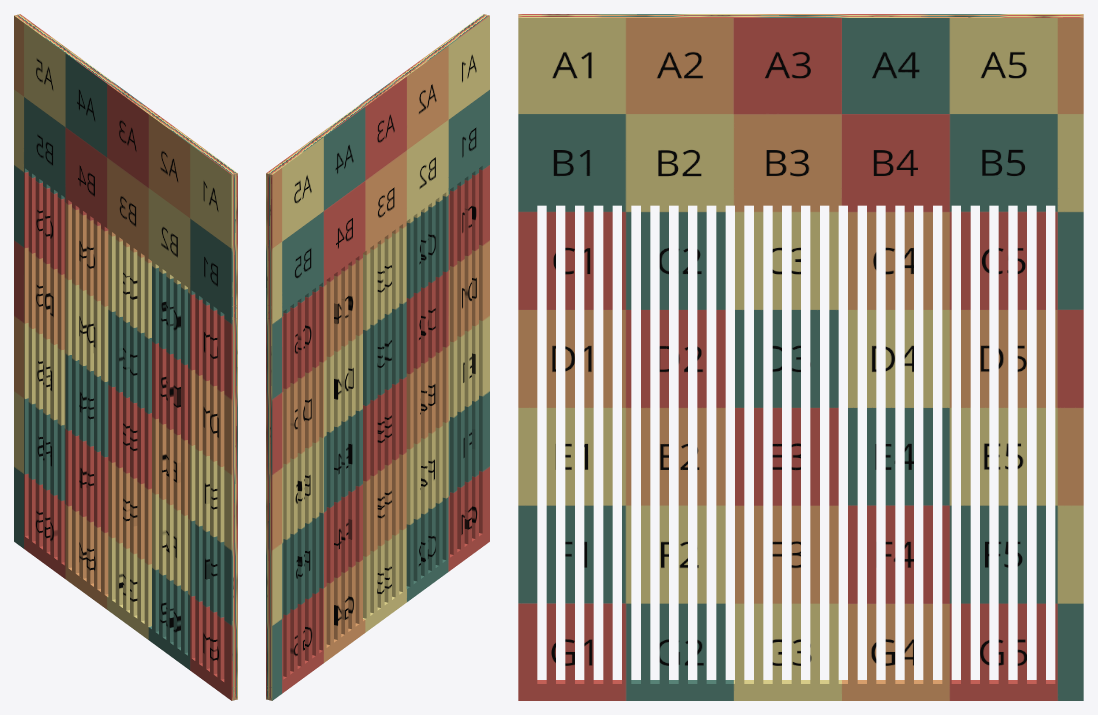
File: Gate.FBX
The picture shows the model from 3 angles, left to right: view 1: azimuth 30°, elevation 25°; view 2: azimuth 150°, elevation 25°; view 3: azimuth 270°, elevation 25°; orthographic projection. The views are drawn at different scales.
Visible parts, largest first — view 1: Gate; view 2: Gate; view 3: Gate.
Part boxes in pixels (x1=…): Gate: x1=14, y1=14, x2=237, y2=700; Gate: x1=266, y1=14, x2=489, y2=700; Gate: x1=518, y1=14, x2=1083, y2=700.
Size of what is drawn, in the model's own units: 5 by 300 by 400.
1 material, 1 textured.
